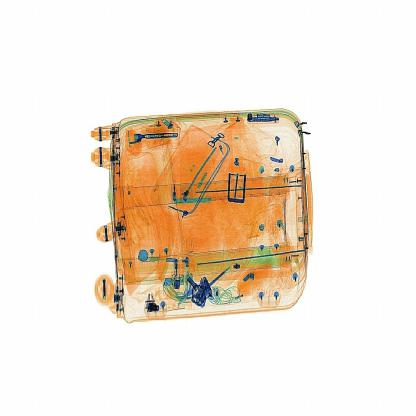pliers: (166, 186, 228, 212)
